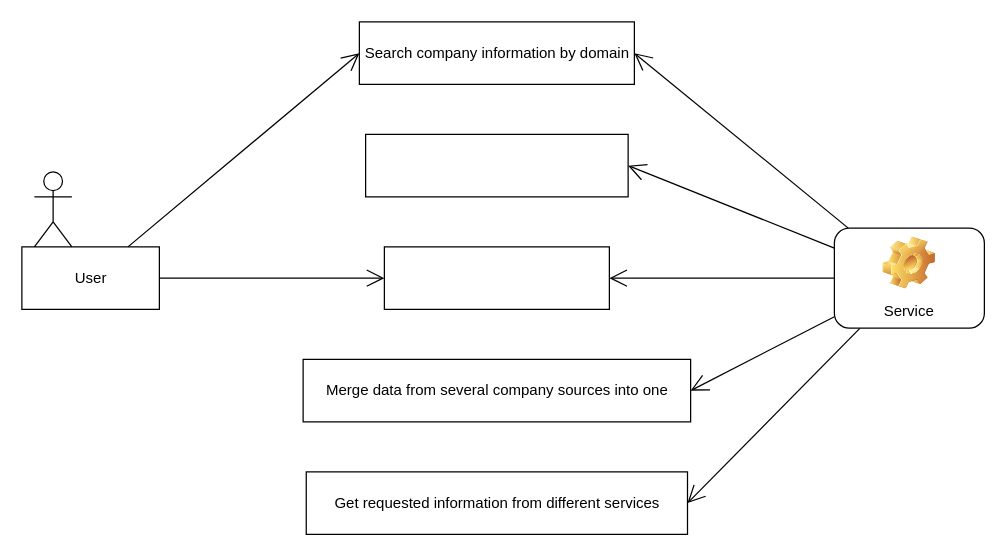
Some shapes in this 1006 by 556 pixel diagram are drawn without their labels. The centre of each missing label's shape, as x and y in pixels:
"Add information about company" belongs at pixel 496 165.
"Get the result of searching" belongs at pixel 496 277.
